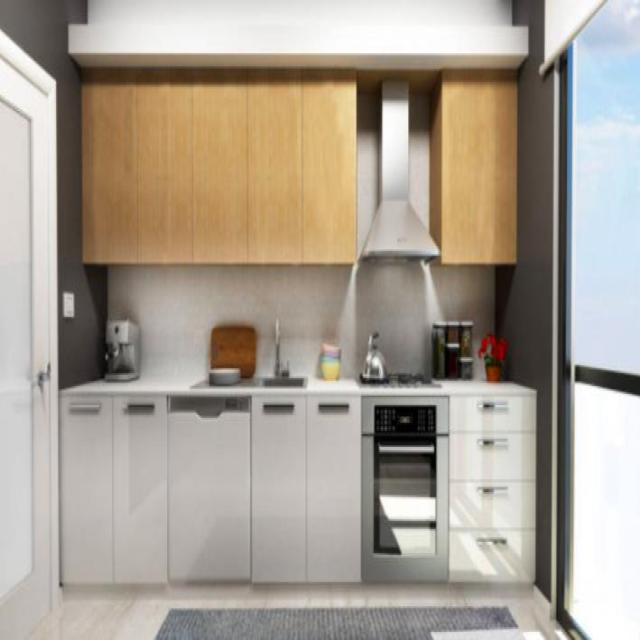dishwasher: (165, 392, 252, 594)
